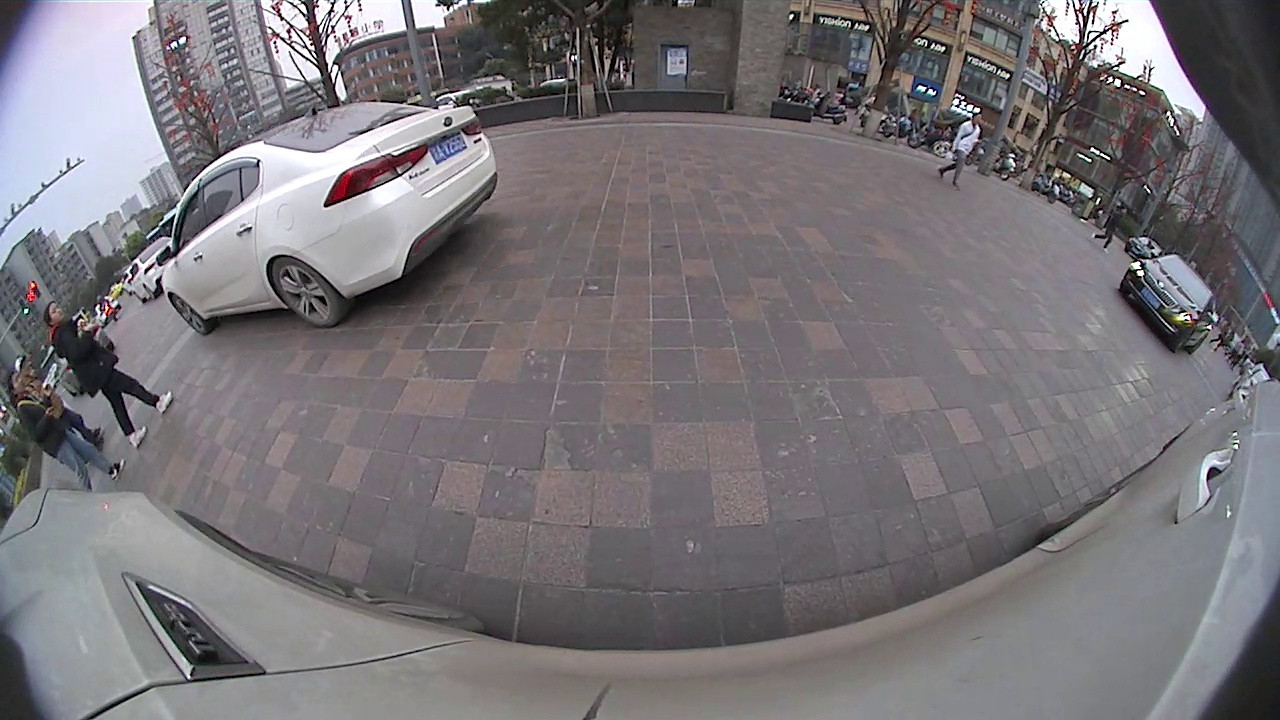car: (158, 101, 501, 337), (1118, 253, 1219, 355), (129, 235, 176, 303), (1126, 235, 1164, 260)
front: (168, 296, 210, 337)
person: (48, 299, 85, 440), (5, 368, 31, 478), (958, 113, 981, 187)
rear: (269, 254, 344, 330)
